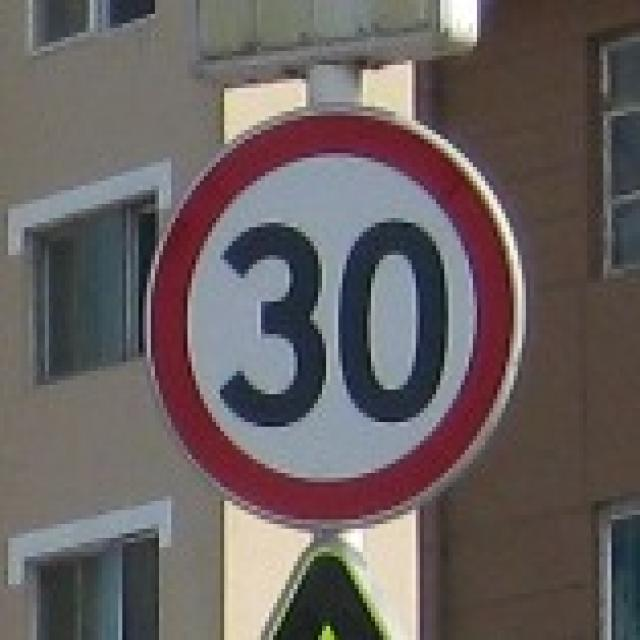Speed Limit -30-: (218, 218, 456, 434)
